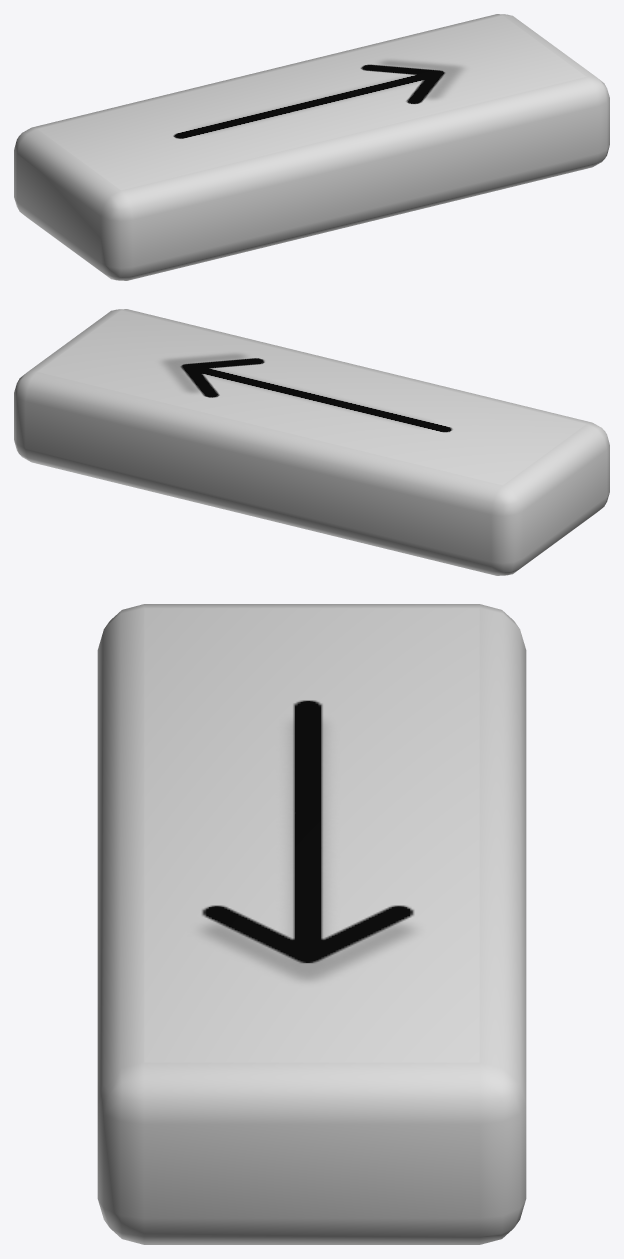
File: buttonprev.glb
The picture shows the model from 3 angles, top to bottom: view 1: azimuth 30°, elevation 25°; view 2: azimuth 150°, elevation 25°; view 3: azimuth 270°, elevation 25°; orthographic projection. The views are drawn at different scales.
Parts seen in each view (by area): view 1: Cube; view 2: Cube; view 3: Cube.
Part boxes in pixels (x1=…): Cube: x1=14, y1=14, x2=609, y2=280; Cube: x1=14, y1=309, x2=609, y2=575; Cube: x1=97, y1=604, x2=526, y2=1244.
Size of the model in its own units: 0.352 by 0.0592 by 0.1292.
2 materials, 1 textured.
